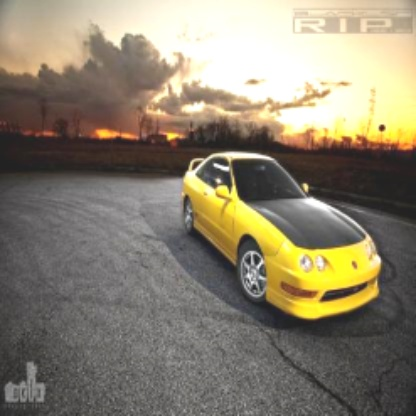Vehicle: (183, 150, 385, 328)
